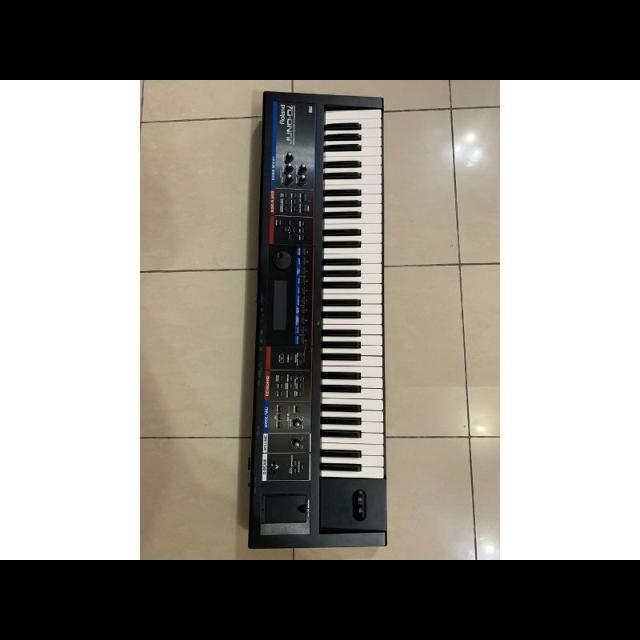Electronic-Keyboard: (247, 82, 393, 548)
